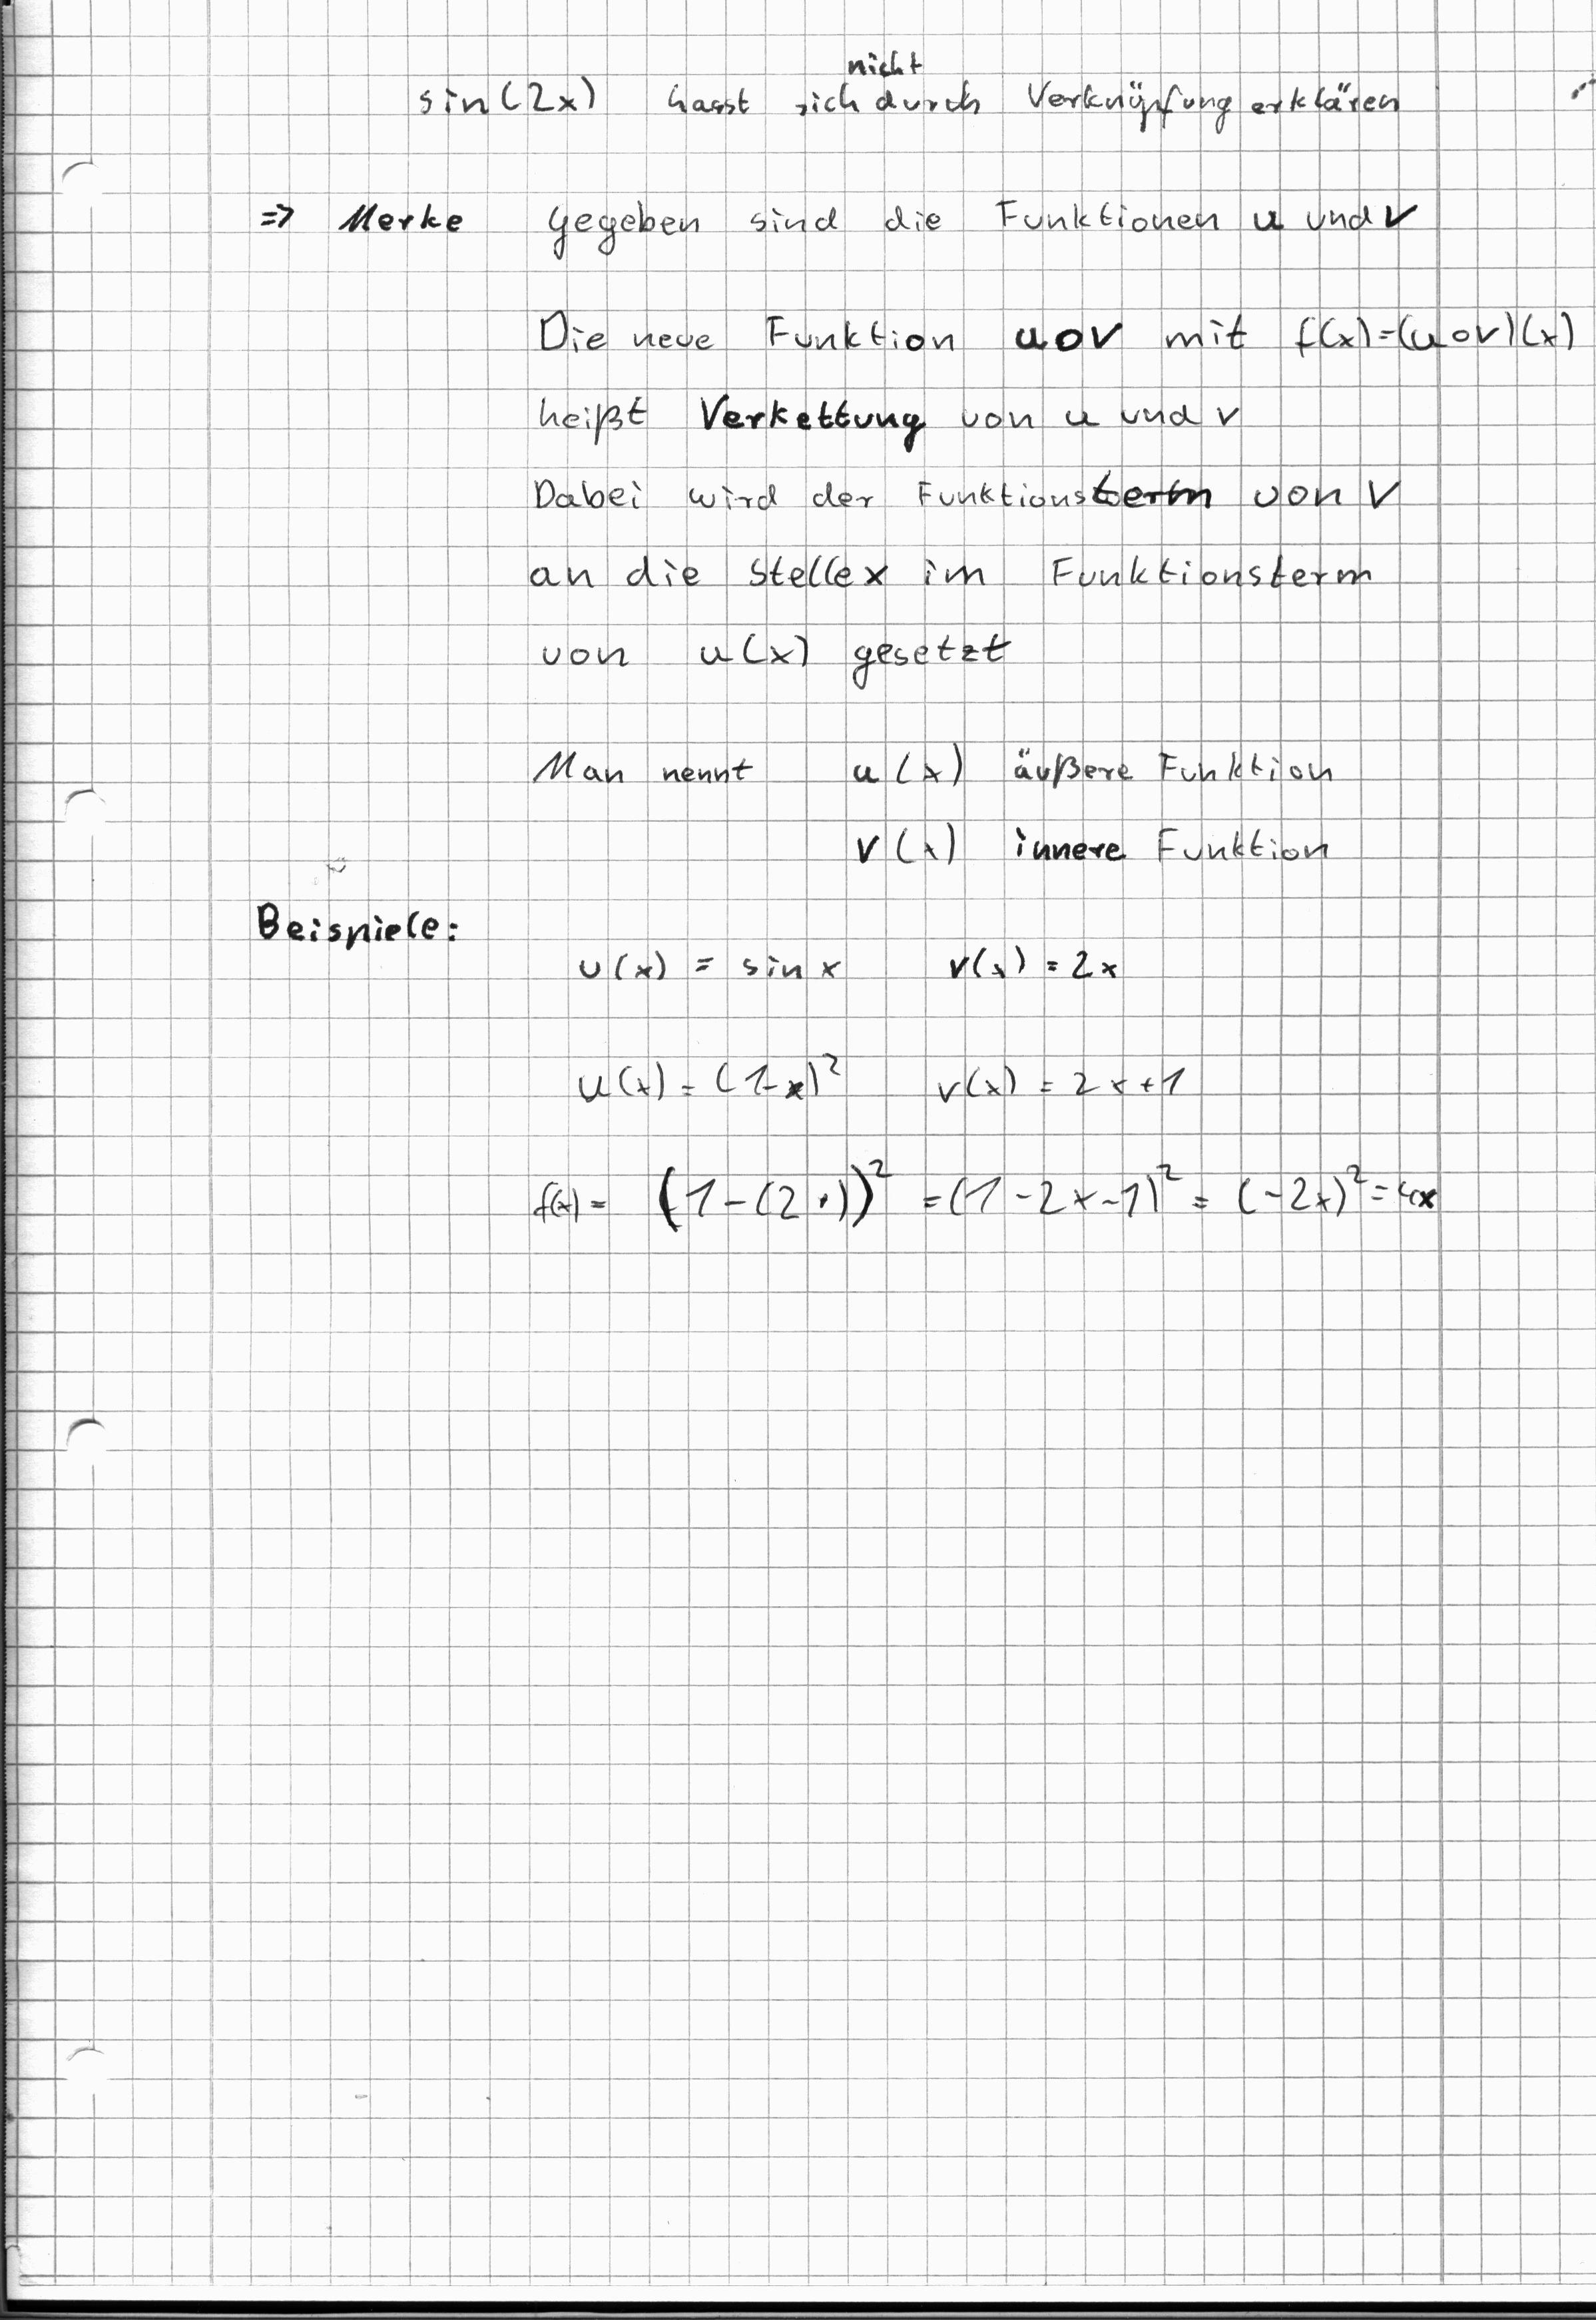word: (522, 293, 1587, 699), (249, 168, 1440, 266), (410, 46, 1412, 148), (525, 1144, 1454, 1237), (838, 722, 1347, 886), (562, 919, 860, 1015), (568, 1032, 863, 1125), (918, 1037, 1222, 1127), (508, 725, 761, 814), (244, 878, 481, 970), (928, 922, 1128, 1004)
